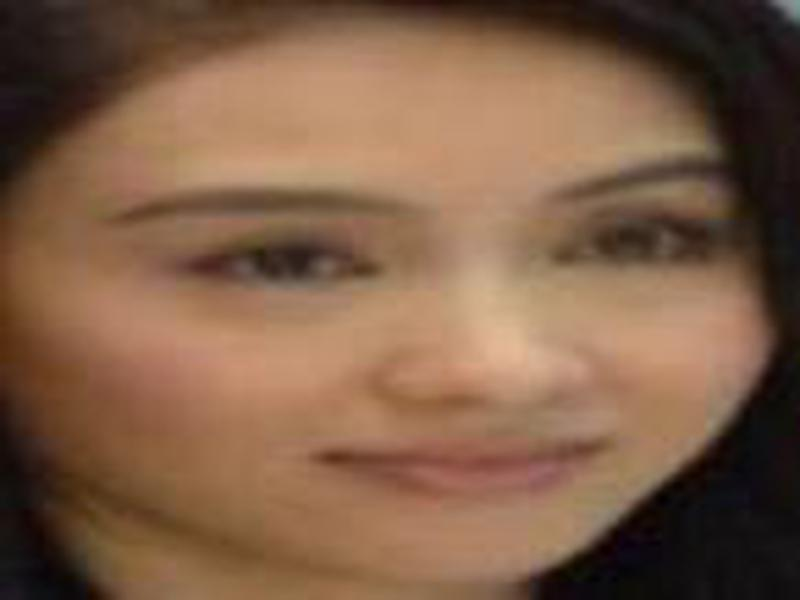without_mask: (17, 23, 768, 582)
